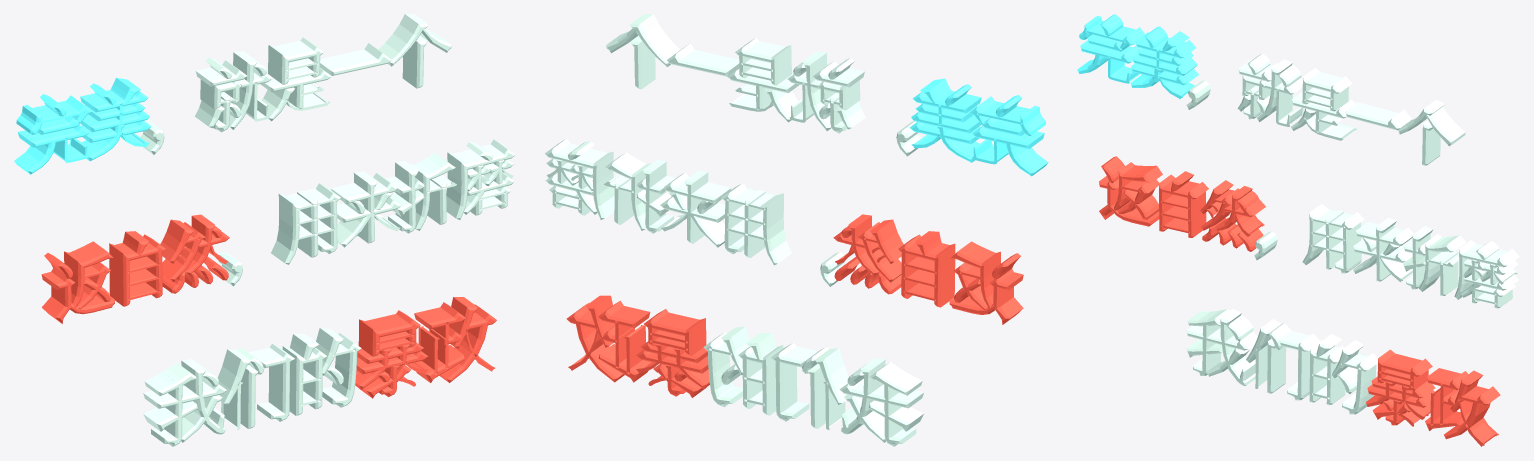
Rendered from perfect-tyranny-note-optimized.glb.
The picture shows the model from 3 angles, left to right: view 1: azimuth 30°, elevation 25°; view 2: azimuth 150°, elevation 25°; view 3: azimuth 330°, elevation 25°; orthographic projection. The views are drawn at different scales.
Parts seen in each view (by area): view 1: Tyranny_Line_01, Tyranny_Line_02; view 2: Tyranny_Line_01, Tyranny_Line_02; view 3: Tyranny_Line_01, Tyranny_Line_02.
Boxes of the visible parts, bbox=[...] form: Tyranny_Line_01: bbox=[14, 14, 515, 446]; Tyranny_Line_02: bbox=[41, 214, 496, 398]; Tyranny_Line_01: bbox=[545, 14, 1048, 446]; Tyranny_Line_02: bbox=[566, 214, 1023, 397]; Tyranny_Line_01: bbox=[1077, 14, 1519, 414]; Tyranny_Line_02: bbox=[1099, 156, 1500, 446].
Size of the model in its own units: 2.23 by 1.63 by 0.152.
